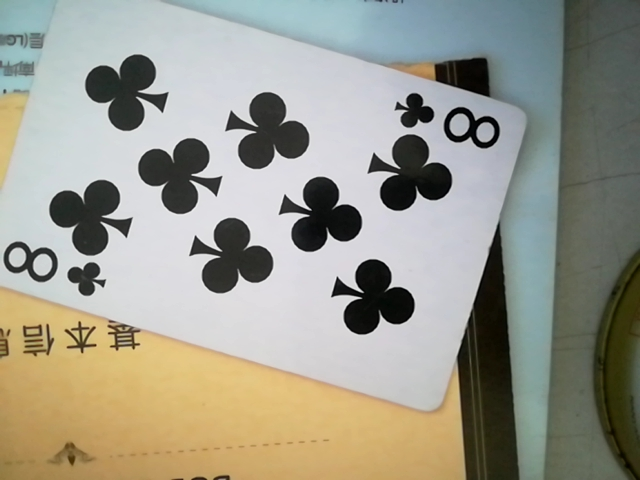mh 8: (0, 5, 548, 417)
